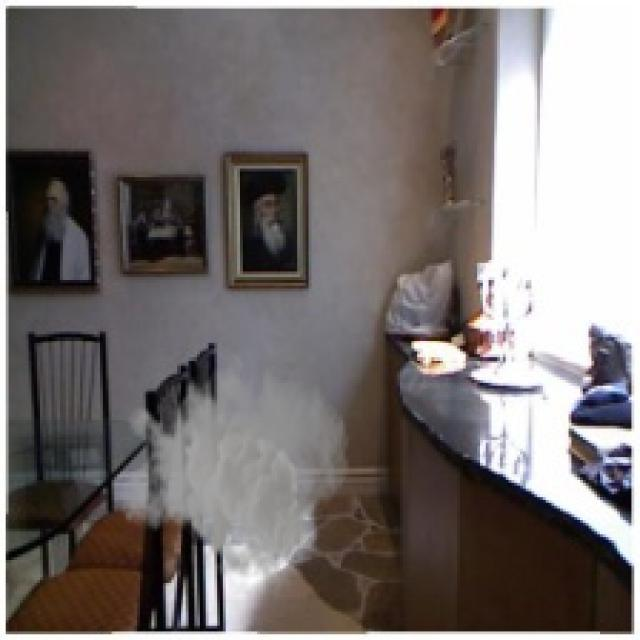smoke: (117, 343, 352, 588)
